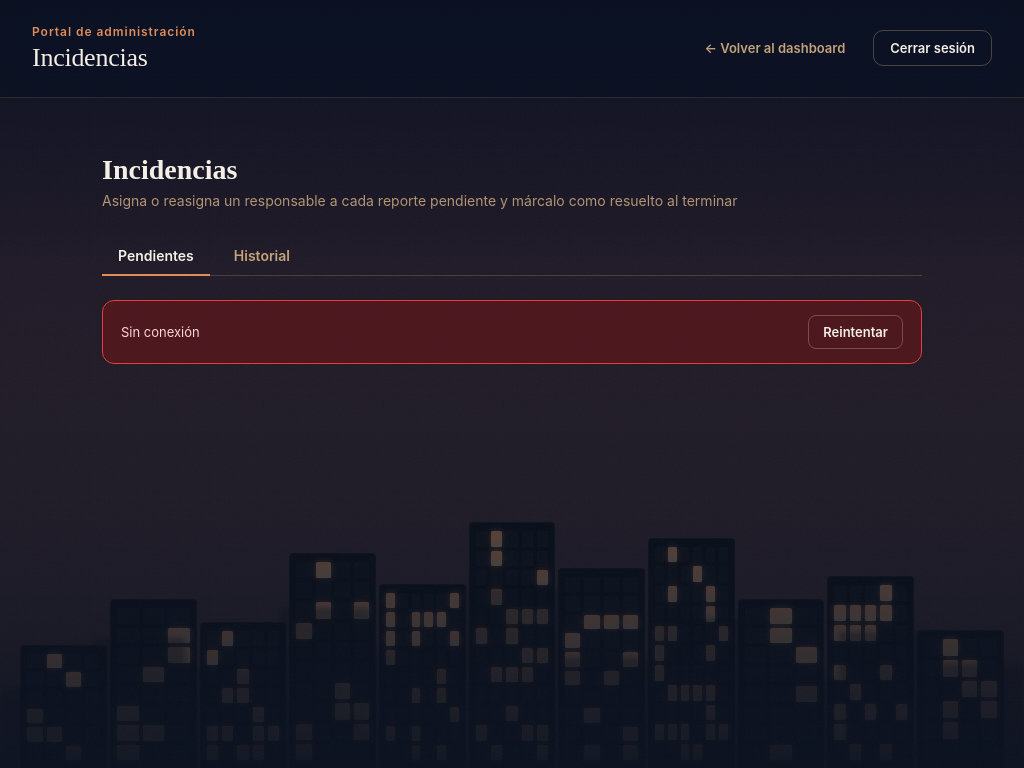
Test case: CU-08 pendientes › error al cargar y reintento
Expected: the message shows "Sin conexión", [121,324,200,340]
Click the button "Reintentar": x=856, y=332 [808,315,903,349]
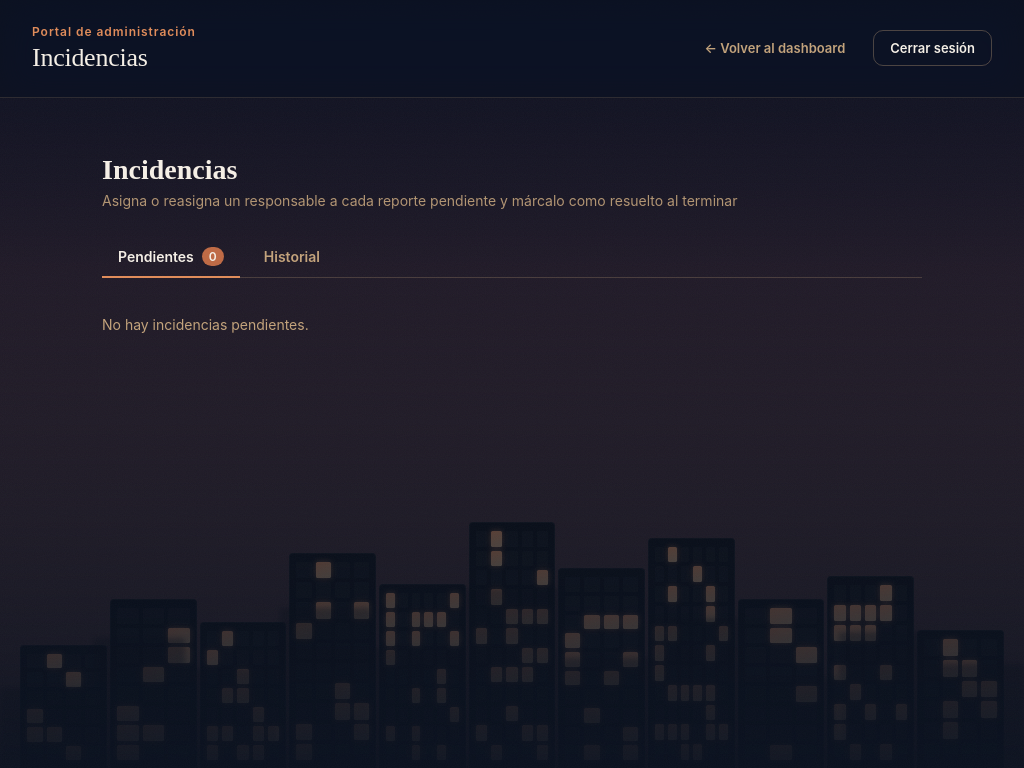
Result: the text "No hay incidencias pendientes." is shown at [102,316,309,333]
